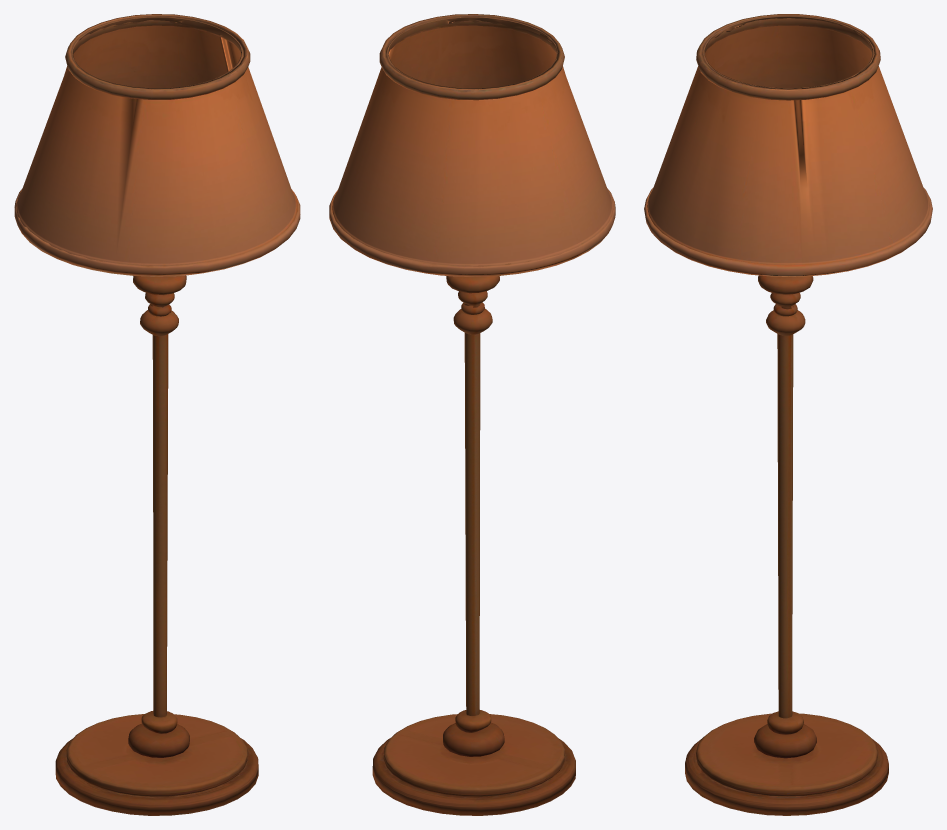
File: toonstudio_floor_lamp.glb
3 views of the same model, side by side, from view 1: azimuth 30°, elevation 25°; view 2: azimuth 150°, elevation 25°; view 3: azimuth 270°, elevation 25° (orthographic).
Parts seen in each view (by area): view 1: f55a9e23_c991_4dc8_9fcb_1bb42b3b11d5; view 2: f55a9e23_c991_4dc8_9fcb_1bb42b3b11d5; view 3: f55a9e23_c991_4dc8_9fcb_1bb42b3b11d5.
Part boxes in pixels (left/top/right/bottom): f55a9e23_c991_4dc8_9fcb_1bb42b3b11d5: left=14, top=14, right=300, bottom=815; f55a9e23_c991_4dc8_9fcb_1bb42b3b11d5: left=329, top=14, right=615, bottom=815; f55a9e23_c991_4dc8_9fcb_1bb42b3b11d5: left=644, top=14, right=932, bottom=815.
Size of the model in its own units: 0.5761 by 1.6 by 0.5808.
Materials: 1 (1 with a texture image).
